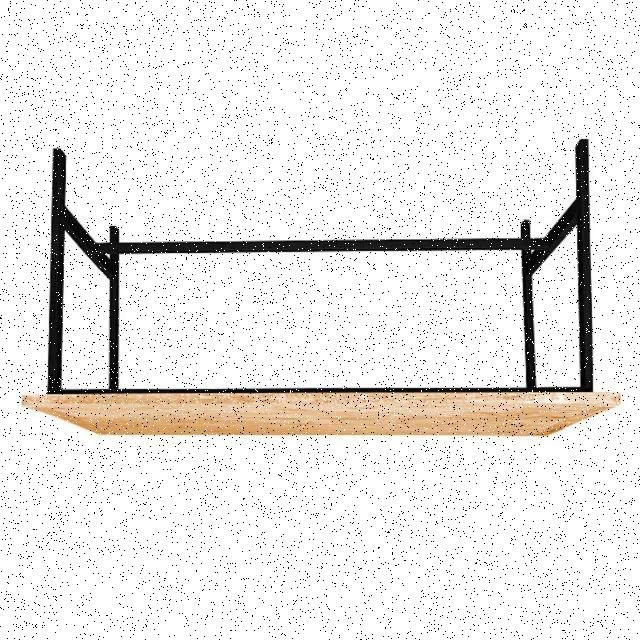mobile-phone: (22, 136, 619, 437)
